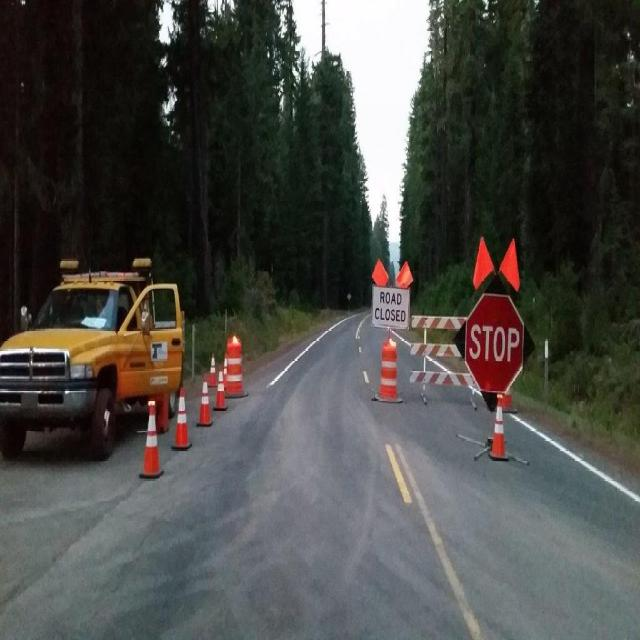Stop-sign: (465, 294, 523, 396)
